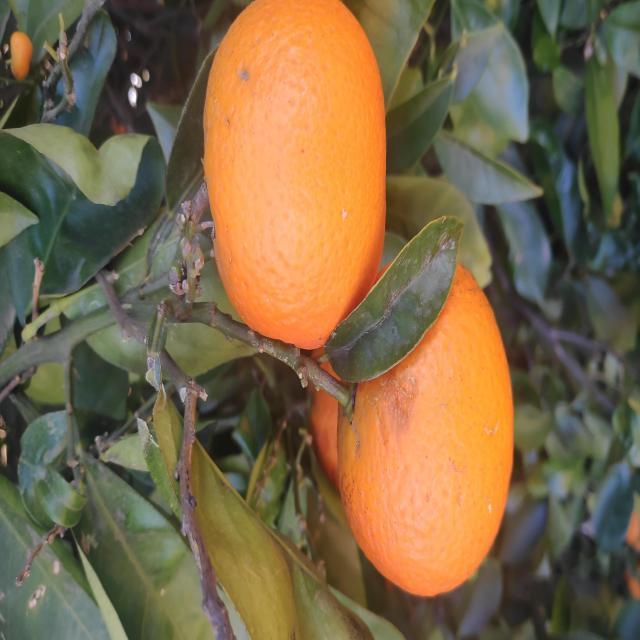Jeruk Sudah Matang: (296, 202, 640, 388), (45, 340, 381, 512), (158, 312, 339, 348), (562, 9, 616, 32)
